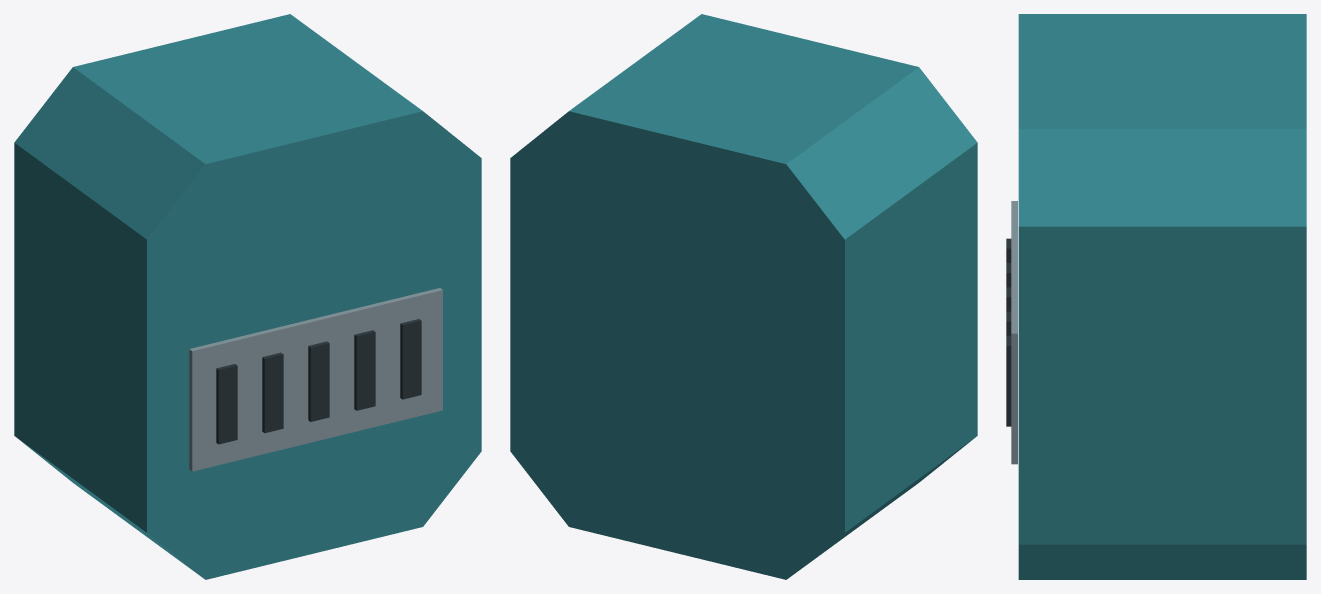
Rendered from Utility_Transformer_Cabinet.glb.
The picture shows the model from 3 angles, left to right: view 1: azimuth 30°, elevation 25°; view 2: azimuth 150°, elevation 25°; view 3: azimuth 270°, elevation 25°; orthographic projection. The views are drawn at different scales.
Parts seen in each view (by area): view 1: Utility_Transformer_Cabinet; view 2: Utility_Transformer_Cabinet; view 3: Utility_Transformer_Cabinet.
Part boxes in pixels (box(x1,y1,x2,y2)): Utility_Transformer_Cabinet: box(14, 14, 481, 579); Utility_Transformer_Cabinet: box(510, 14, 977, 579); Utility_Transformer_Cabinet: box(1006, 14, 1306, 579).
Size of the model in its own units: 1.6 by 1.9 by 1.15.
